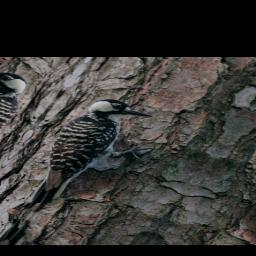Woodpecker: (0, 91, 185, 228)
